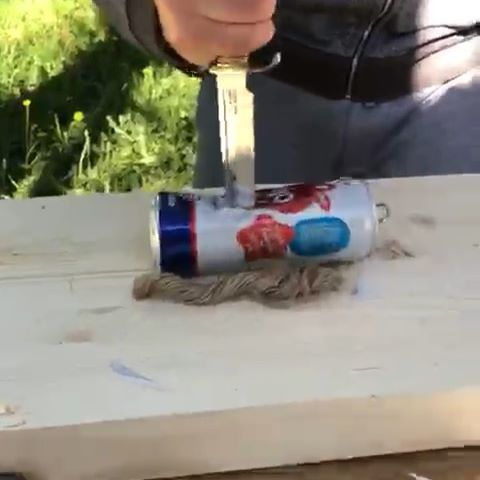knife: (208, 54, 281, 207)
